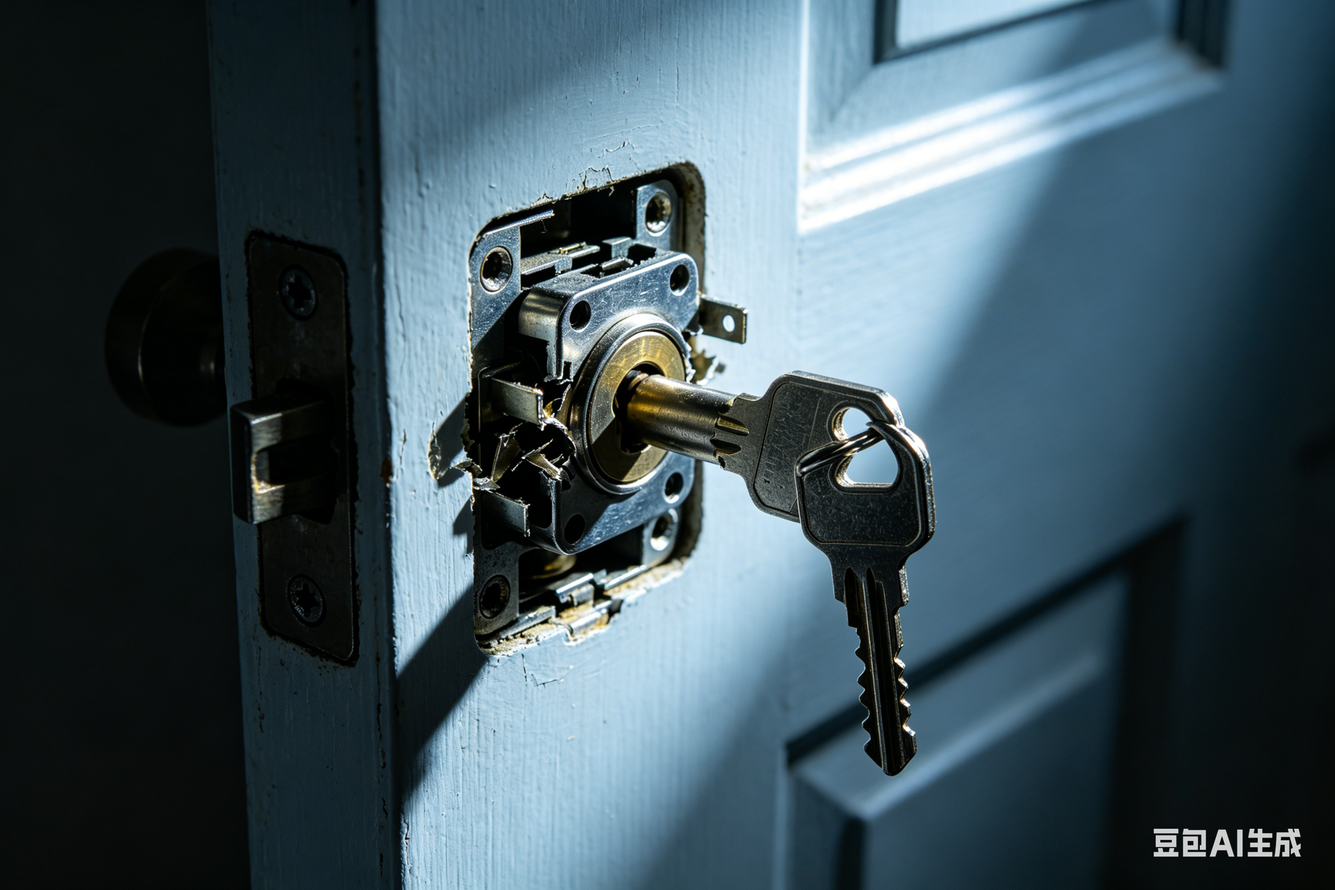BadLock: (457, 208, 709, 646)
